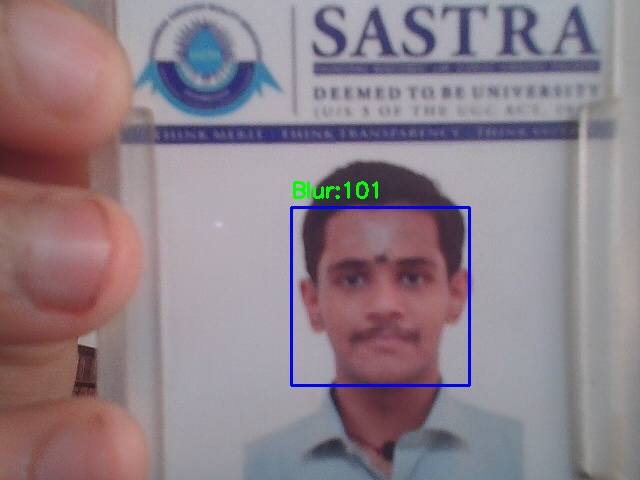fake: (291, 207, 469, 385)
